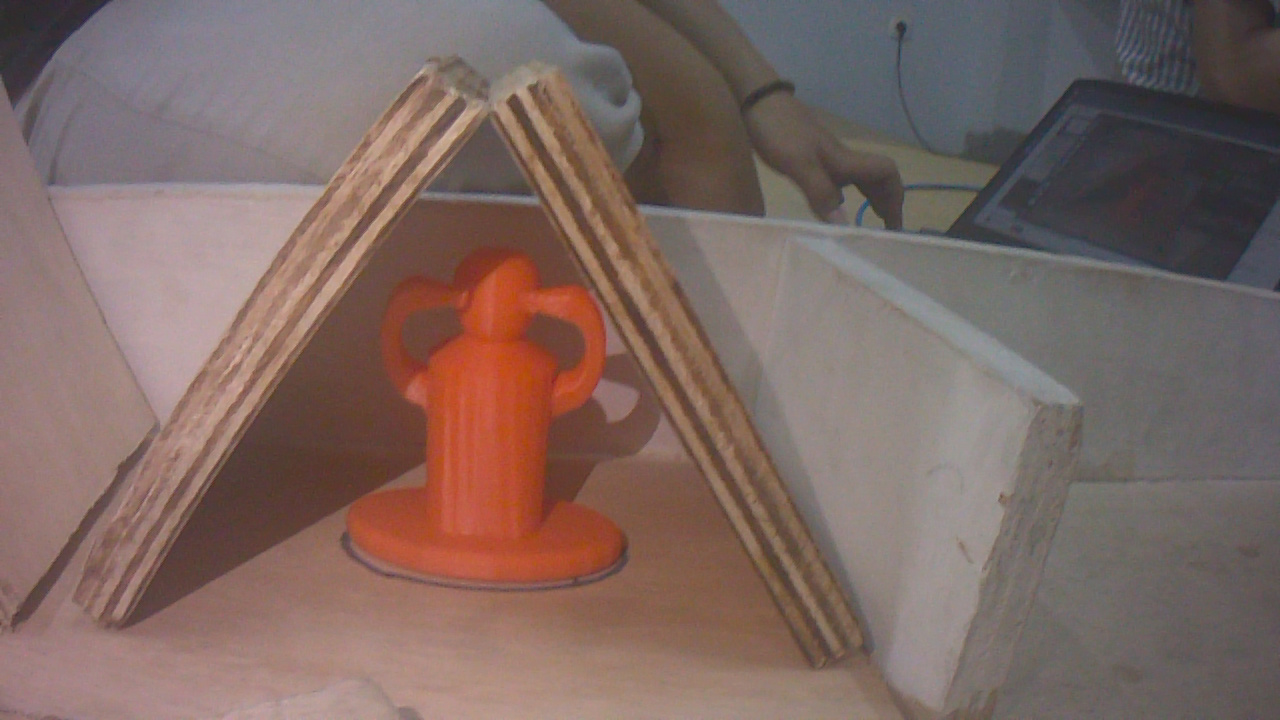real: (359, 238, 629, 598)
